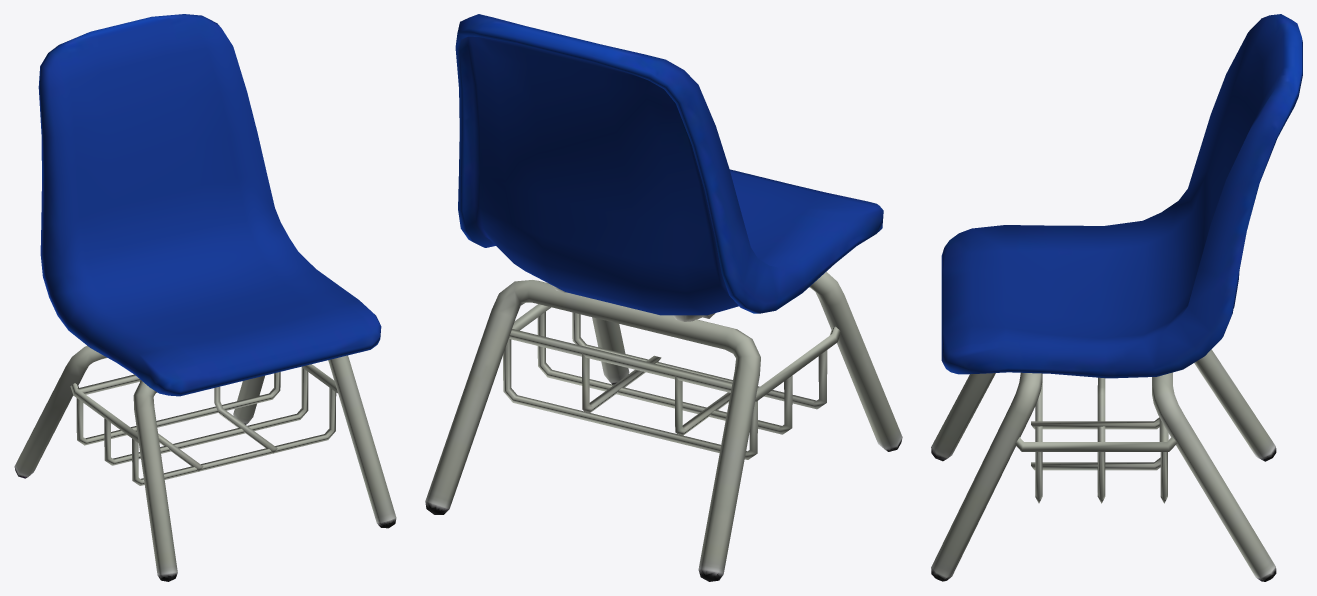
3 views of the same model, side by side, from view 1: azimuth 30°, elevation 25°; view 2: azimuth 150°, elevation 25°; view 3: azimuth 270°, elevation 25° (orthographic). The views are drawn at different scales.
Size of the model in its own units: 6.13 by 10.41 by 7.44.
Materials: 1 (1 with a texture image).
